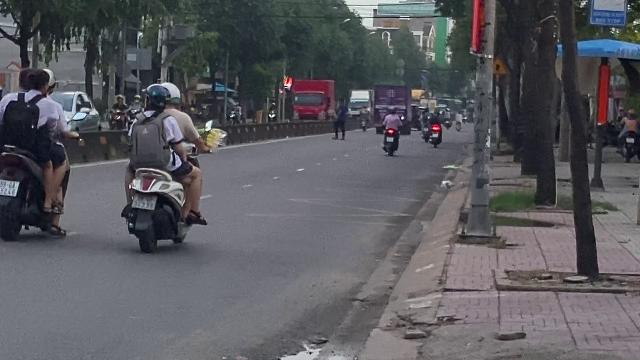helmet: (142, 82, 168, 112), (160, 81, 180, 105), (43, 67, 59, 97)
licenseplate: (132, 194, 156, 210), (0, 179, 18, 195)
motorcyclist: (116, 80, 208, 253), (0, 64, 74, 240)
nohelmet: (27, 69, 49, 93)
